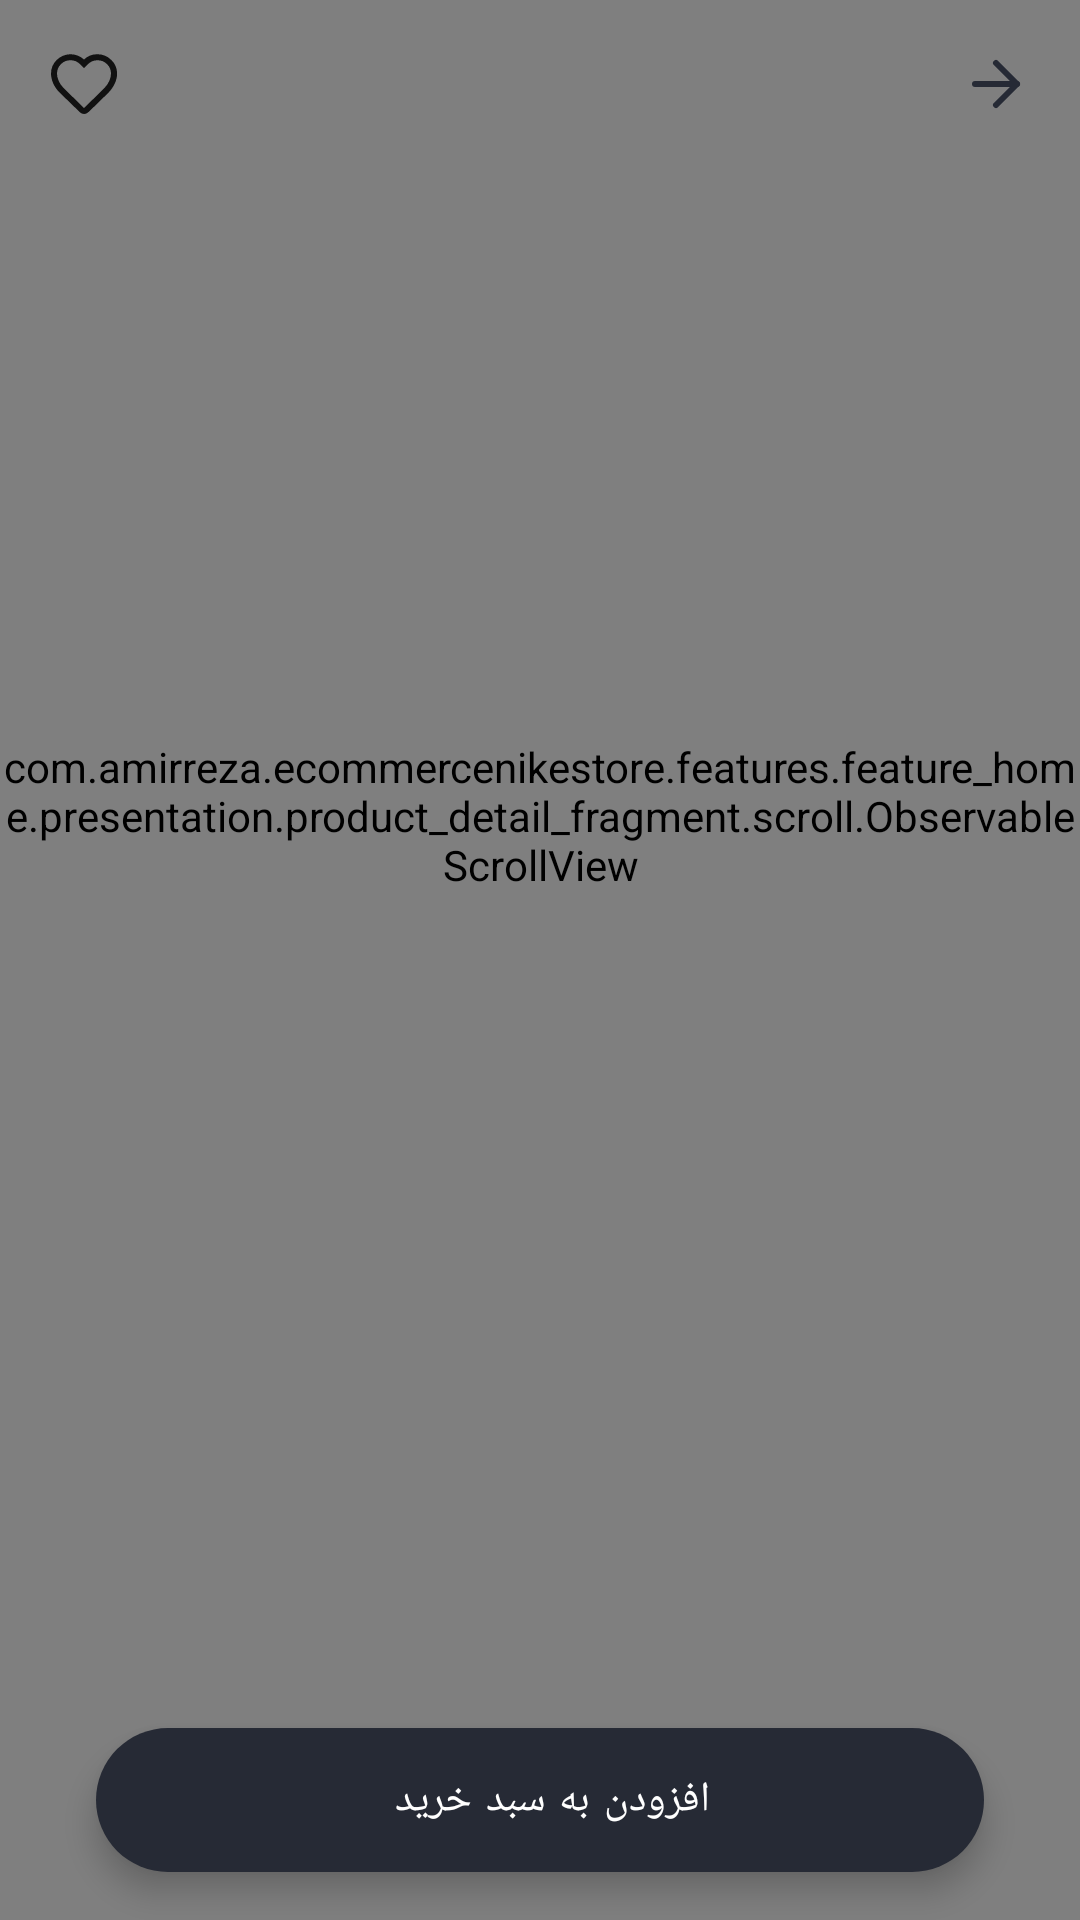

Screen size 1080w x 1920h. Icon name, then its box in pixels as (x1, y1, x2, y2):
favorite: (51, 54, 117, 114)
